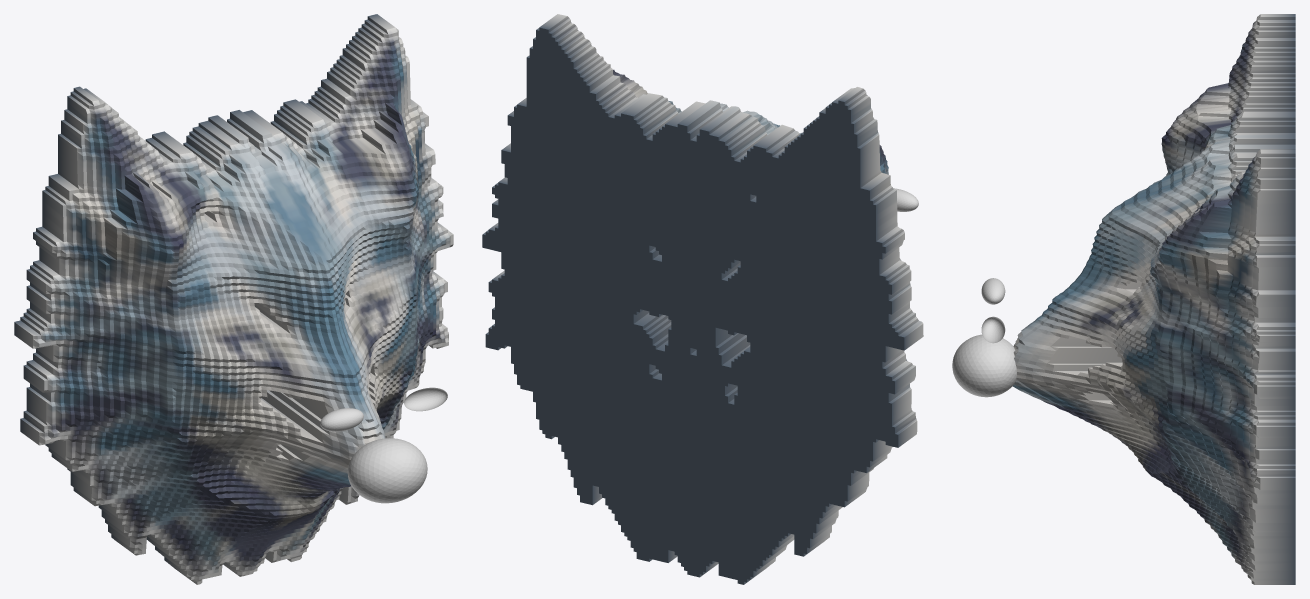
File: lobo_wolf_volumetric.glb
3 views of the same model, side by side, from view 1: azimuth 30°, elevation 25°; view 2: azimuth 150°, elevation 25°; view 3: azimuth 270°, elevation 25° (orthographic). The views are drawn at different scales.
Parts seen in each view (by area): view 1: Wolf_Head, Nose, Eye_R, Eye_L; view 2: Wolf_Head; view 3: Wolf_Head, Nose, Eye_R, Eye_L.
Boxes of the visible parts, left/top/right/bottom form: Wolf_Head: left=14, top=14, right=453, bottom=584; Nose: left=347, top=438, right=427, bottom=503; Eye_R: left=404, top=387, right=447, bottom=411; Eye_L: left=320, top=408, right=363, bottom=431; Wolf_Head: left=482, top=14, right=923, bottom=584; Wolf_Head: left=1012, top=14, right=1295, bottom=584; Nose: left=952, top=334, right=1016, bottom=397; Eye_R: left=981, top=316, right=1005, bottom=343; Eye_L: left=981, top=278, right=1005, bottom=304.
Size of the model in its own units: 1.49 by 1.72 by 1.12.
